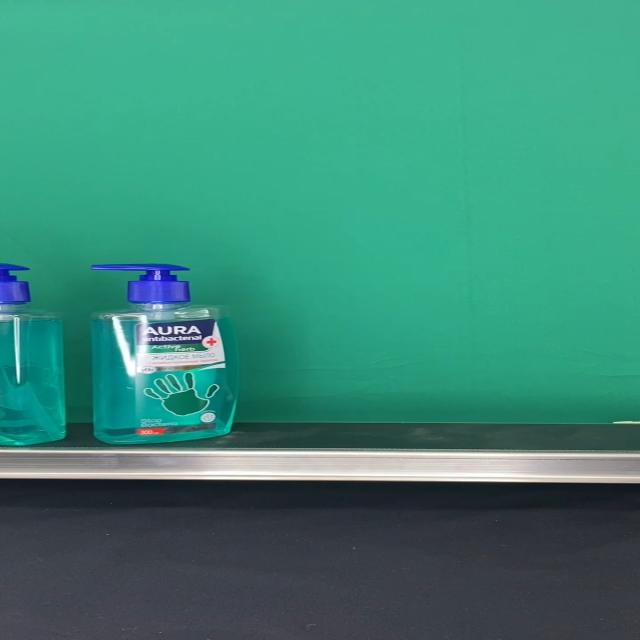Bottle: (89, 264, 239, 444)
Cap: (91, 264, 189, 306)
